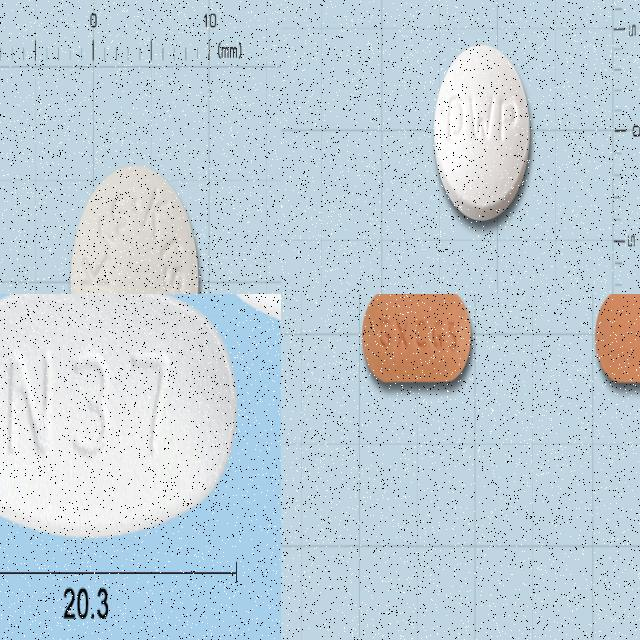Korus Ascorbic Acid: (69, 163, 201, 294)
Lefloxin: (434, 42, 530, 222)
Moxiclen Tab-625mg: (0, 294, 236, 540)
Ziagen Tab: (360, 294, 473, 383), (595, 294, 640, 383)
